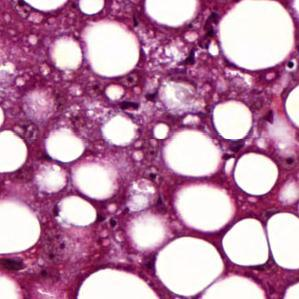steatosis: (149, 232, 222, 291), (156, 128, 224, 180), (233, 148, 283, 199), (225, 218, 269, 273)
